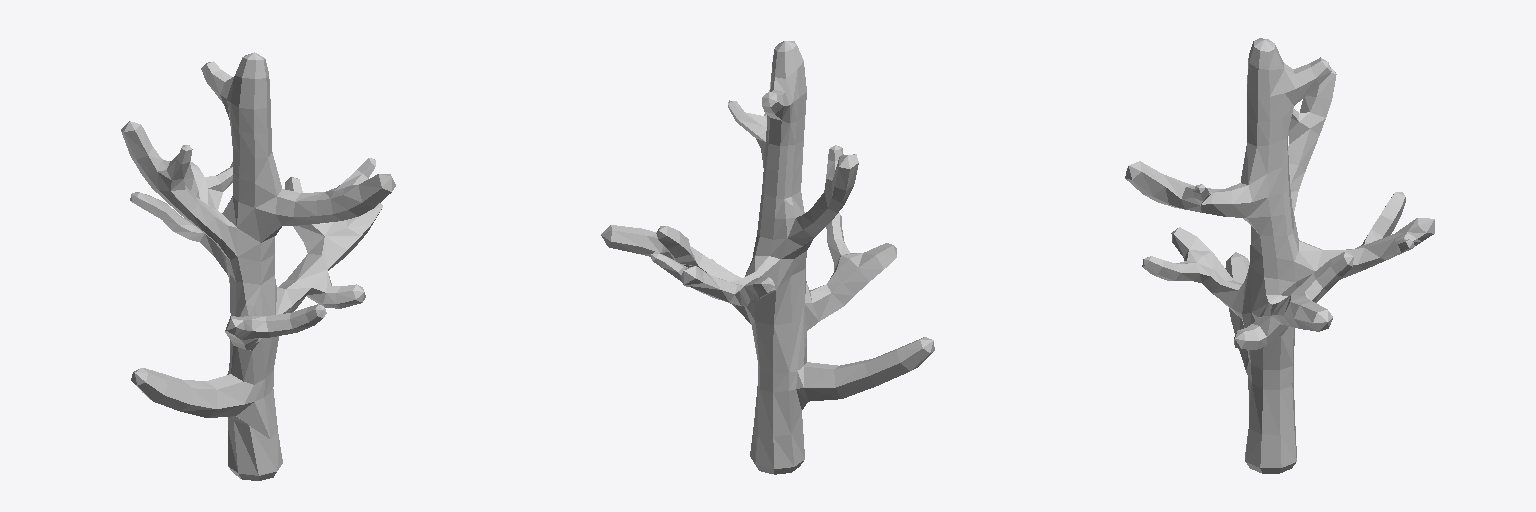
The model's file is Coral_A_01_LOD1.obj.
3 renders of one model, left to right at view 1: azimuth 30°, elevation 25°; view 2: azimuth 150°, elevation 25°; view 3: azimuth 270°, elevation 25°, orthographic.
Visible parts, largest first — view 1: Coral_A_01_LOD1_Cylinder.377; view 2: Coral_A_01_LOD1_Cylinder.377; view 3: Coral_A_01_LOD1_Cylinder.377.
Part boxes in pixels (x1,y1,x2,y2): Coral_A_01_LOD1_Cylinder.377: (121,52,395,480); Coral_A_01_LOD1_Cylinder.377: (601,41,934,474); Coral_A_01_LOD1_Cylinder.377: (1125,38,1434,473).
Size of the model in its own units: 7.26 by 10.23 by 6.78.